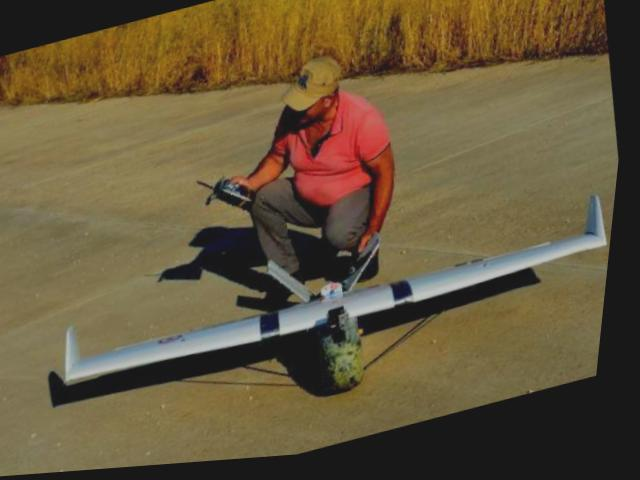iha: (57, 172, 623, 458)
